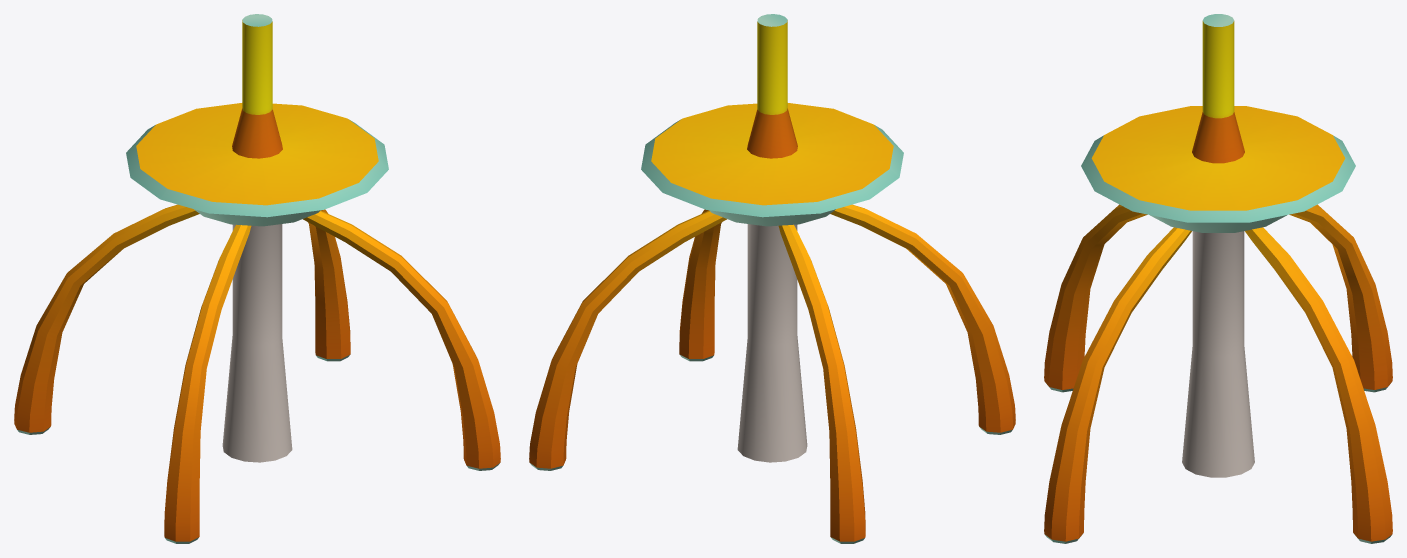
The model's file is Tall_B_10.fbx.
The picture shows the model from 3 angles, left to right: view 1: azimuth 30°, elevation 25°; view 2: azimuth 150°, elevation 25°; view 3: azimuth 270°, elevation 25°; orthographic projection. The views are drawn at different scales.
Parts seen in each view (by area): view 1: Tall_B_10; view 2: Tall_B_10; view 3: Tall_B_10.
Boxes of the visible parts, x1,y1,x2,y2 form: Tall_B_10: (14,14,500,543); Tall_B_10: (529,14,1015,543); Tall_B_10: (1044,14,1392,543).
Bounding box in the file's own units: 14053 × 17193 × 12296.
